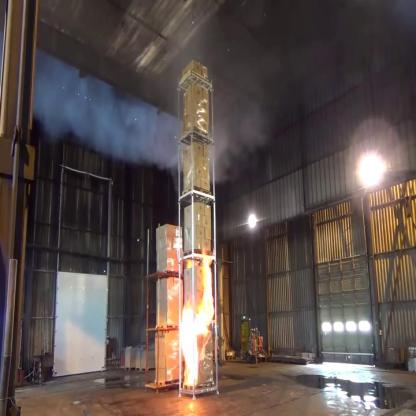fire: (178, 250, 218, 397)
